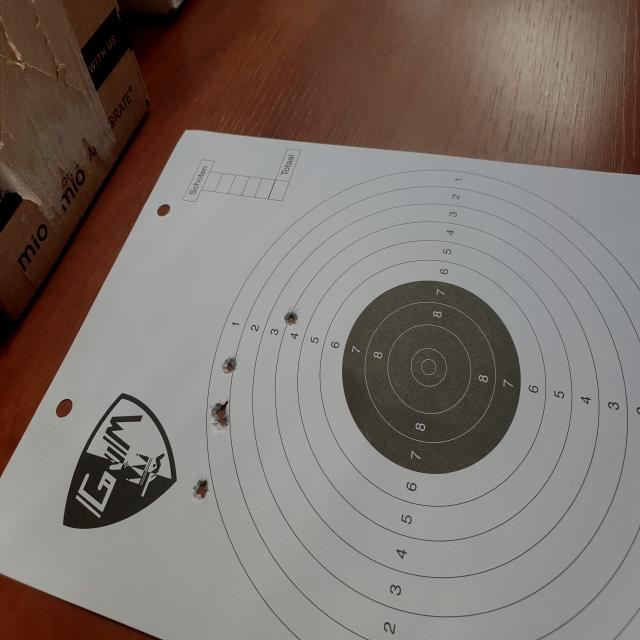0: (193, 477, 210, 501)
1: (212, 415, 230, 431), (212, 402, 230, 414)
2: (220, 355, 237, 374)
4: (282, 306, 298, 328)
Target: (205, 168, 640, 640)
black_contour: (342, 280, 521, 476)
